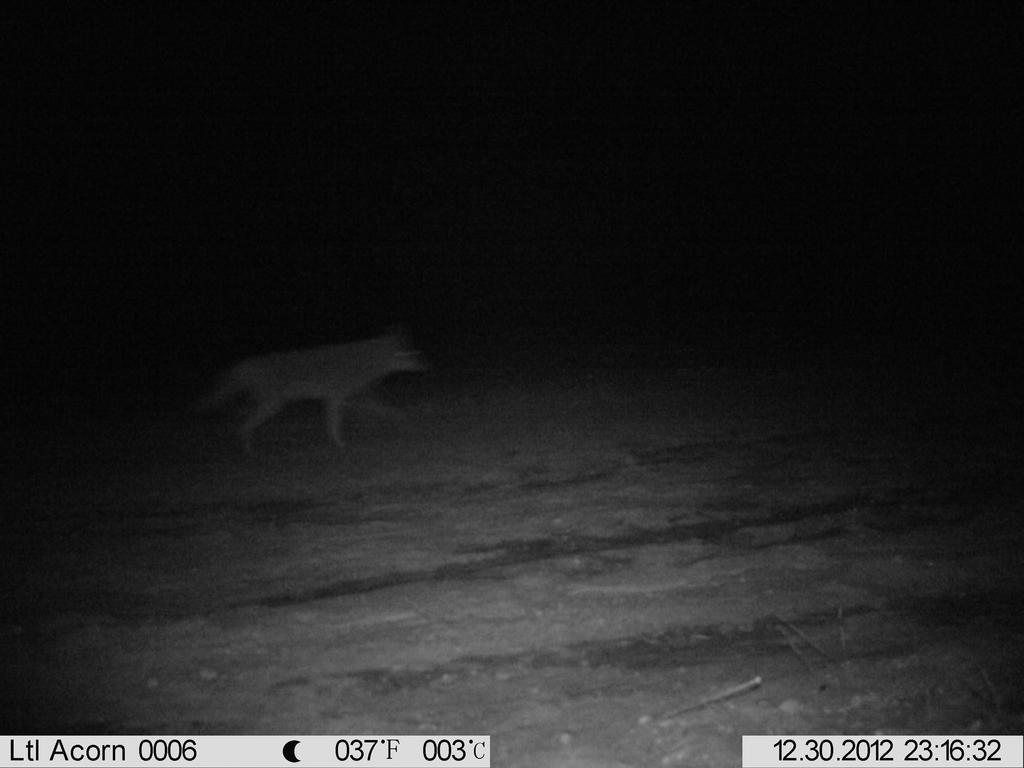coyote: (185, 318, 447, 466)
